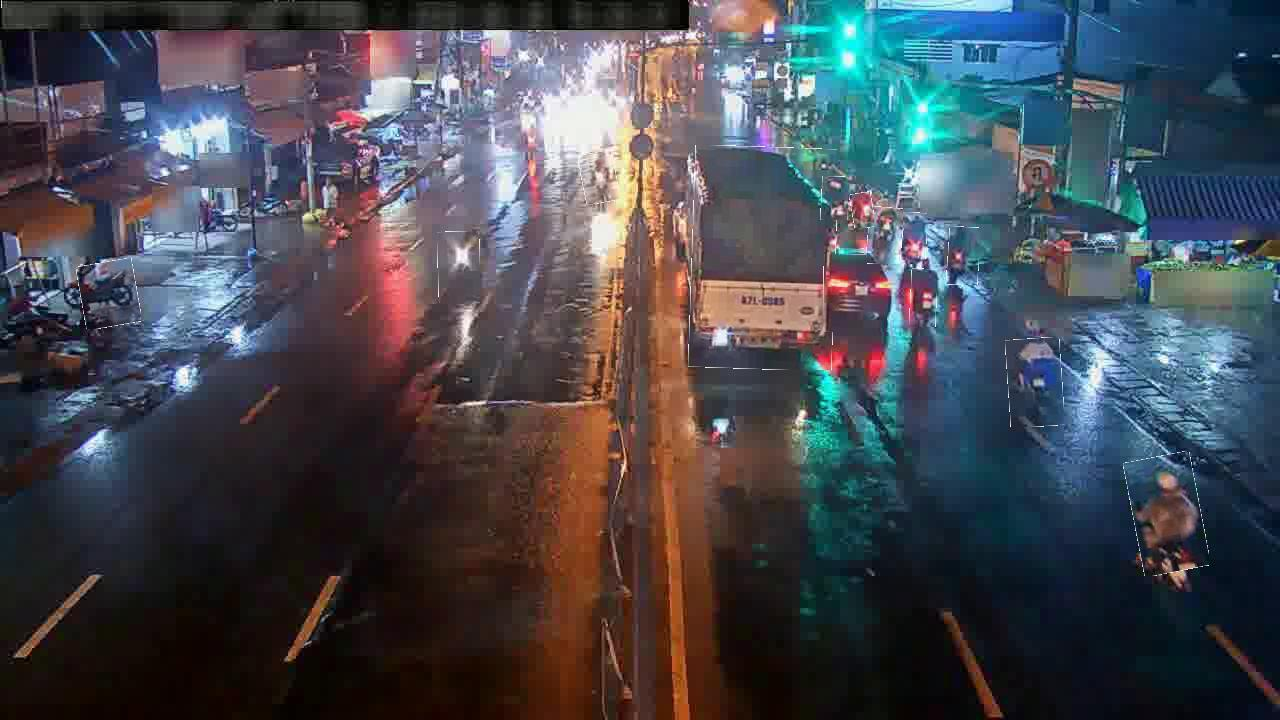8: (690, 146, 837, 370)
container: (824, 255, 898, 333)
motorbike: (1128, 454, 1205, 575), (1006, 338, 1064, 428), (78, 260, 140, 328), (438, 232, 481, 304), (867, 207, 903, 265), (947, 226, 980, 286), (580, 152, 618, 204), (910, 269, 938, 328), (896, 213, 928, 261), (821, 177, 849, 221), (851, 192, 874, 229)
